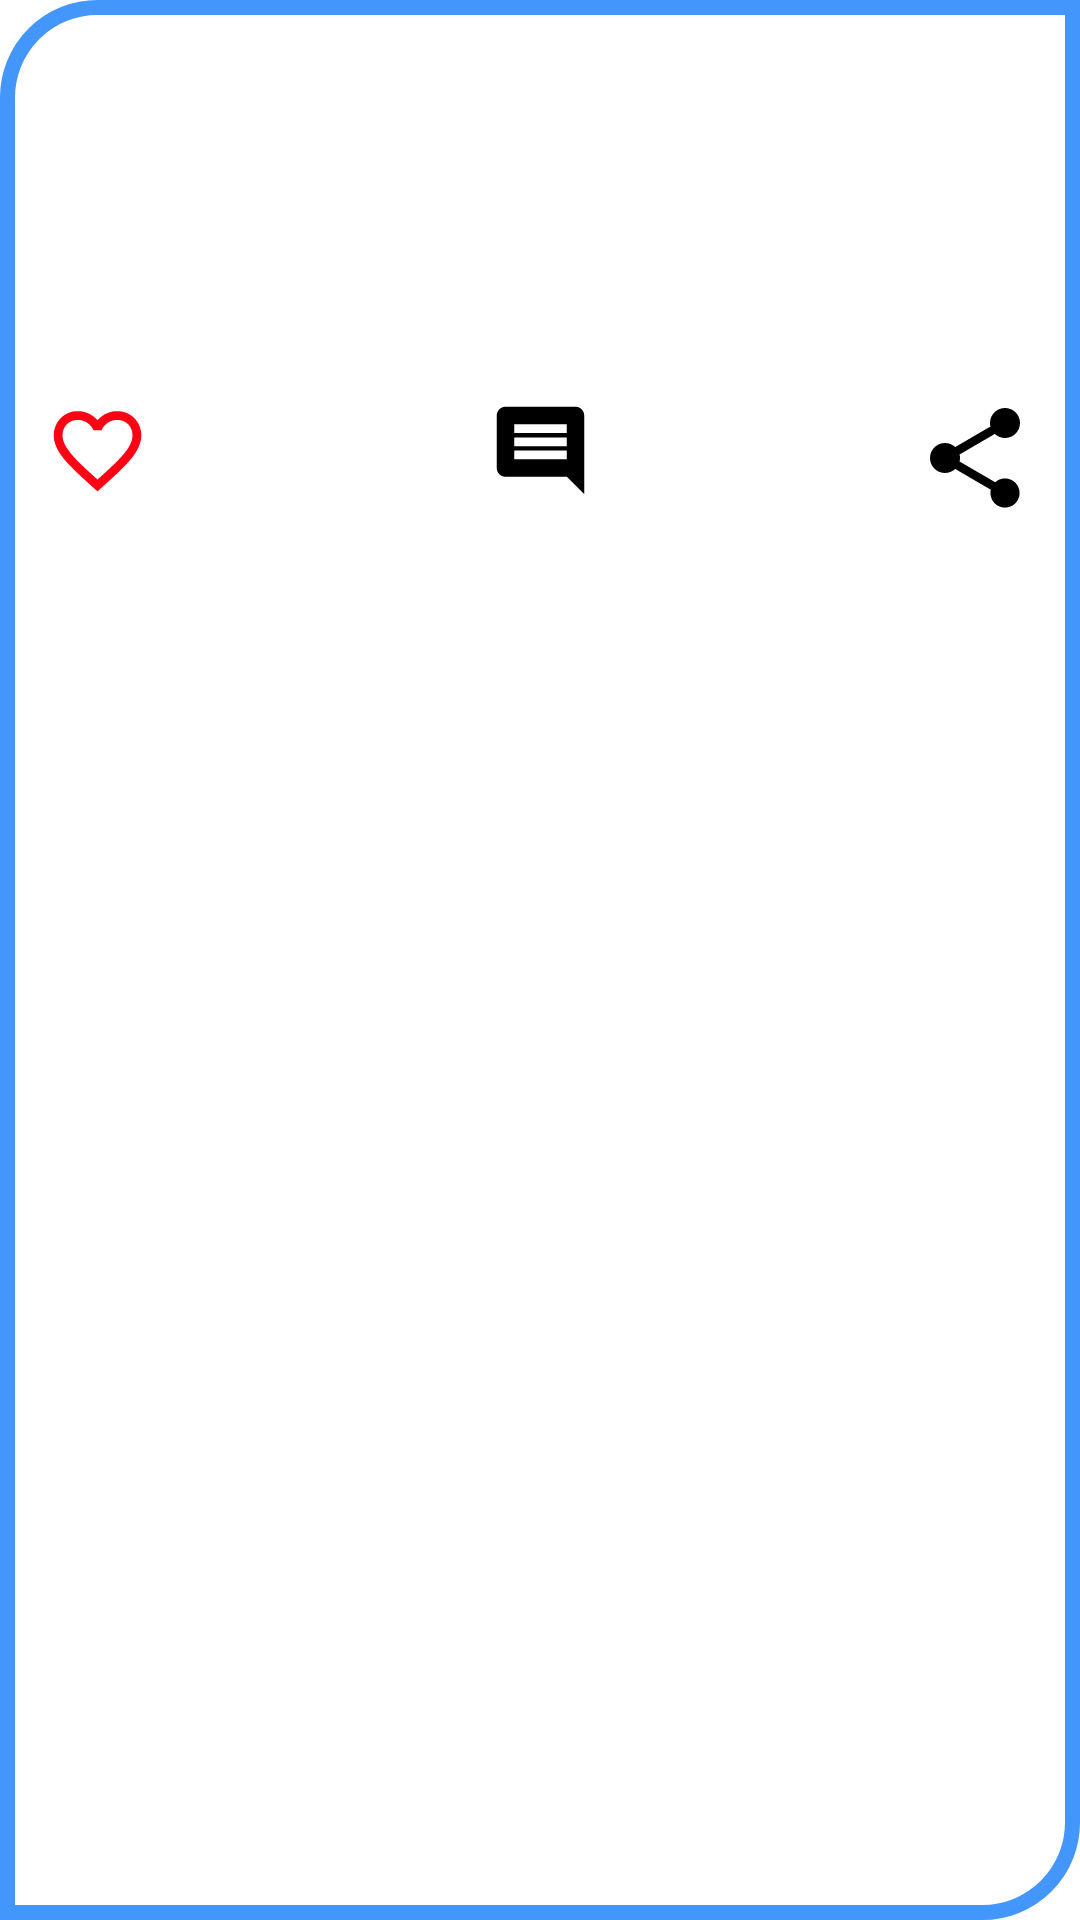

Screen size 1080*1920. Icon name, then its box in pixels as region(x1, y1, x2, y2):
comment: region(496, 406, 585, 494)
favorite border: region(53, 411, 142, 492)
share: region(930, 408, 1020, 508)
